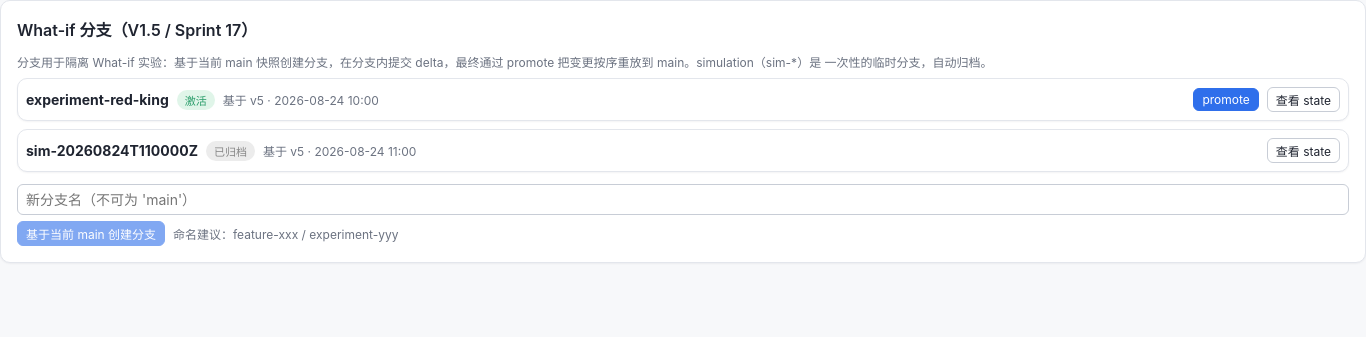
it: BranchesPanel (V1.5 / Sprint 17) › promote success path: shows result banner and reloads
Click the button with test id "branches-promote-br_exp1". click: [1226, 100]
box: [1193,88,1259,111]
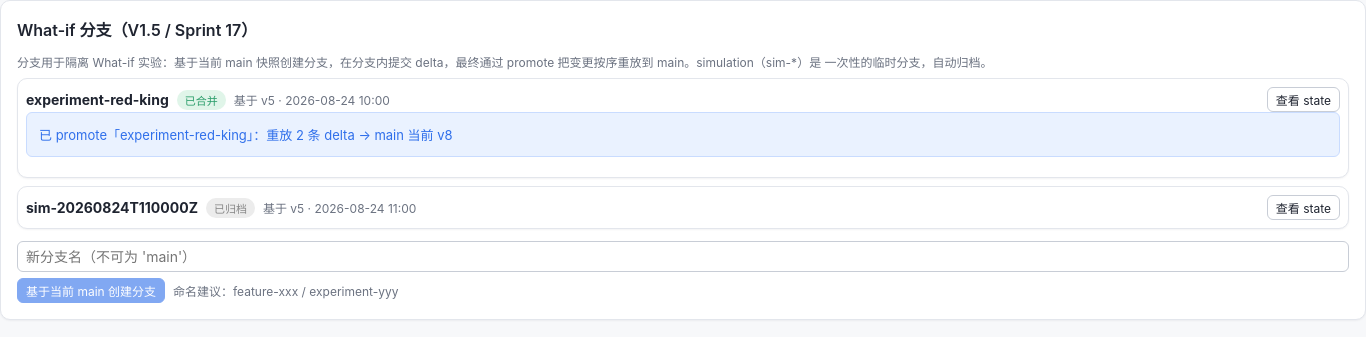
Expected: the text with test id "branches-promote-result-br_exp1" shows "已 promote「experiment-red-king」：重放 2 条 delta", [39,127,453,143]
